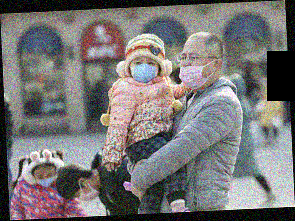mask_weared_incorrect: (177, 49, 215, 92)
with_mask: (129, 57, 161, 84), (73, 187, 103, 203), (35, 169, 56, 188)
